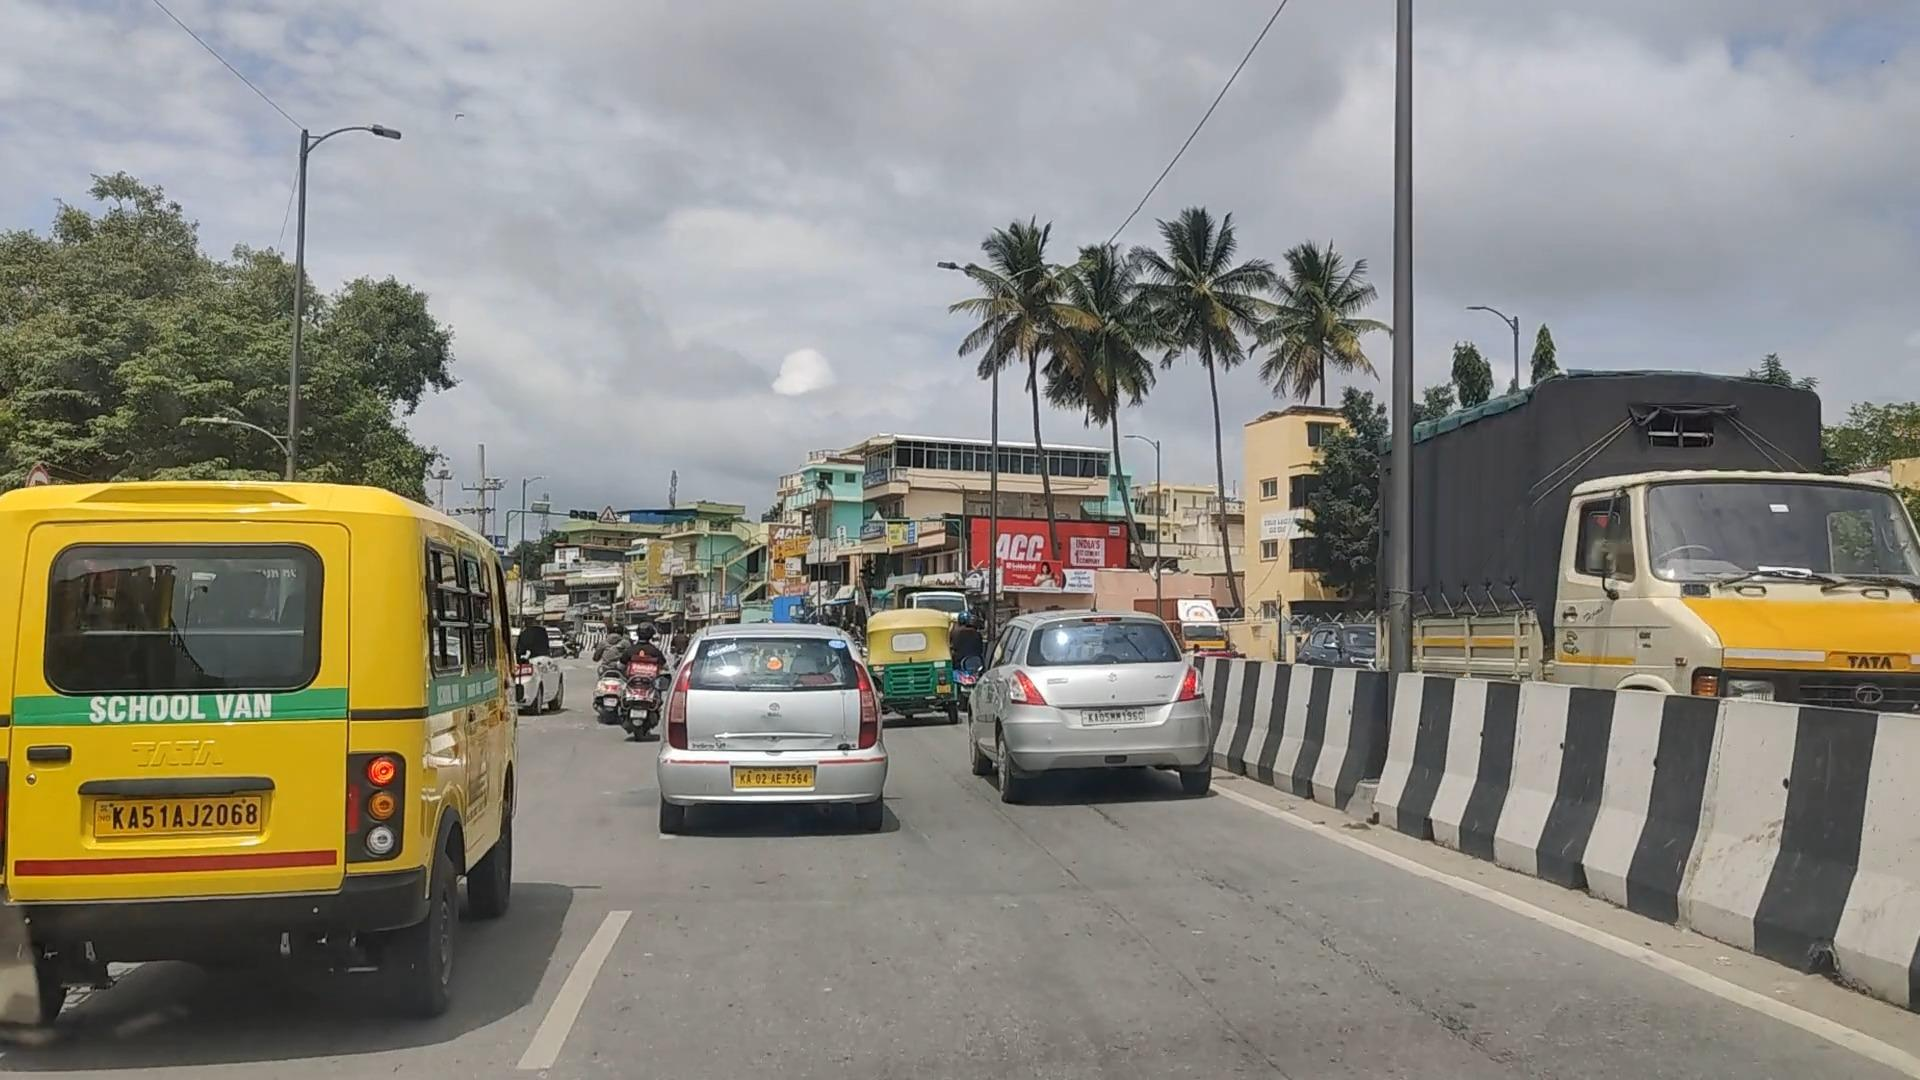LMV: (0, 438, 558, 1055), (650, 593, 895, 852), (967, 580, 1230, 815)
